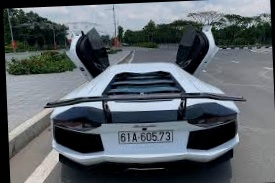Bien-so: (108, 131, 164, 145)
